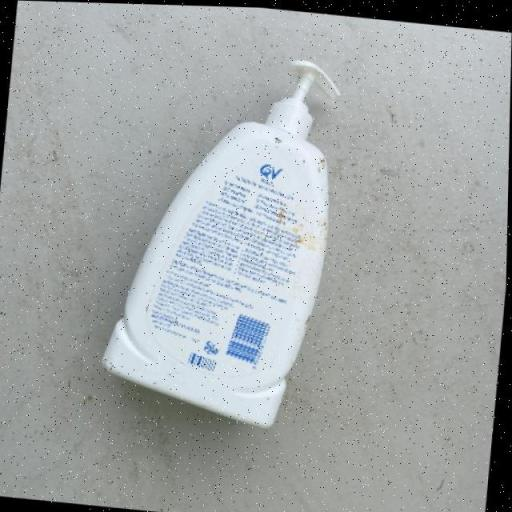plastic: (97, 39, 345, 431)
